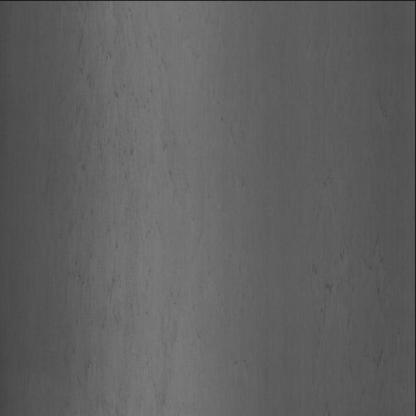silk_spot: (86, 58, 179, 250), (291, 200, 345, 324)
